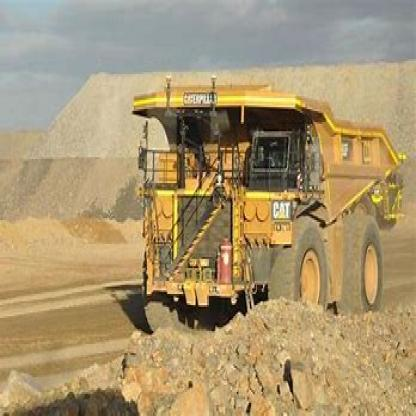dump_truck: (120, 63, 402, 329)
